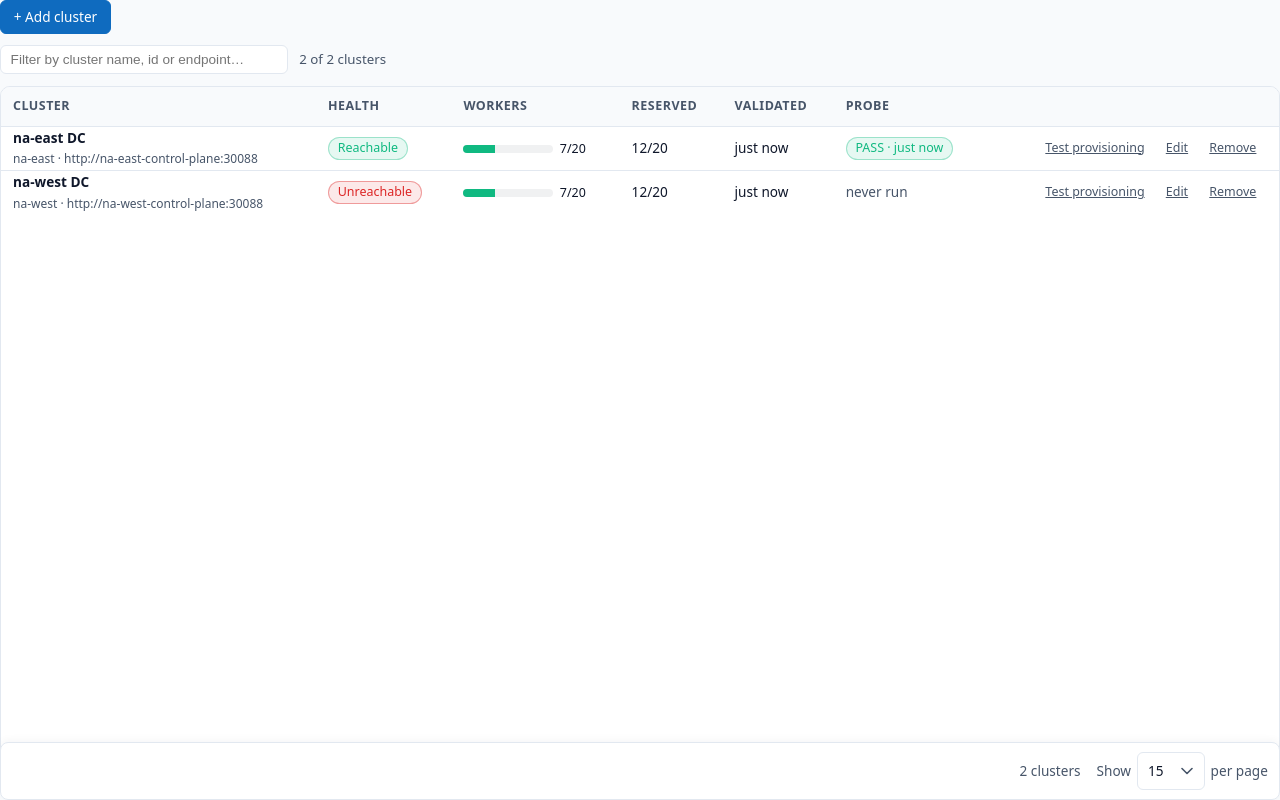
Scenario: ClustersPage (CLUSTER-CAPACITY) › a failed validation renders the ✓/✗ checklist with the failing check's detail
This screenshot has width=1280, height=800.
Click the button "+ Add cluster": click(56, 17) x1=0 y1=0 x2=111 y2=34
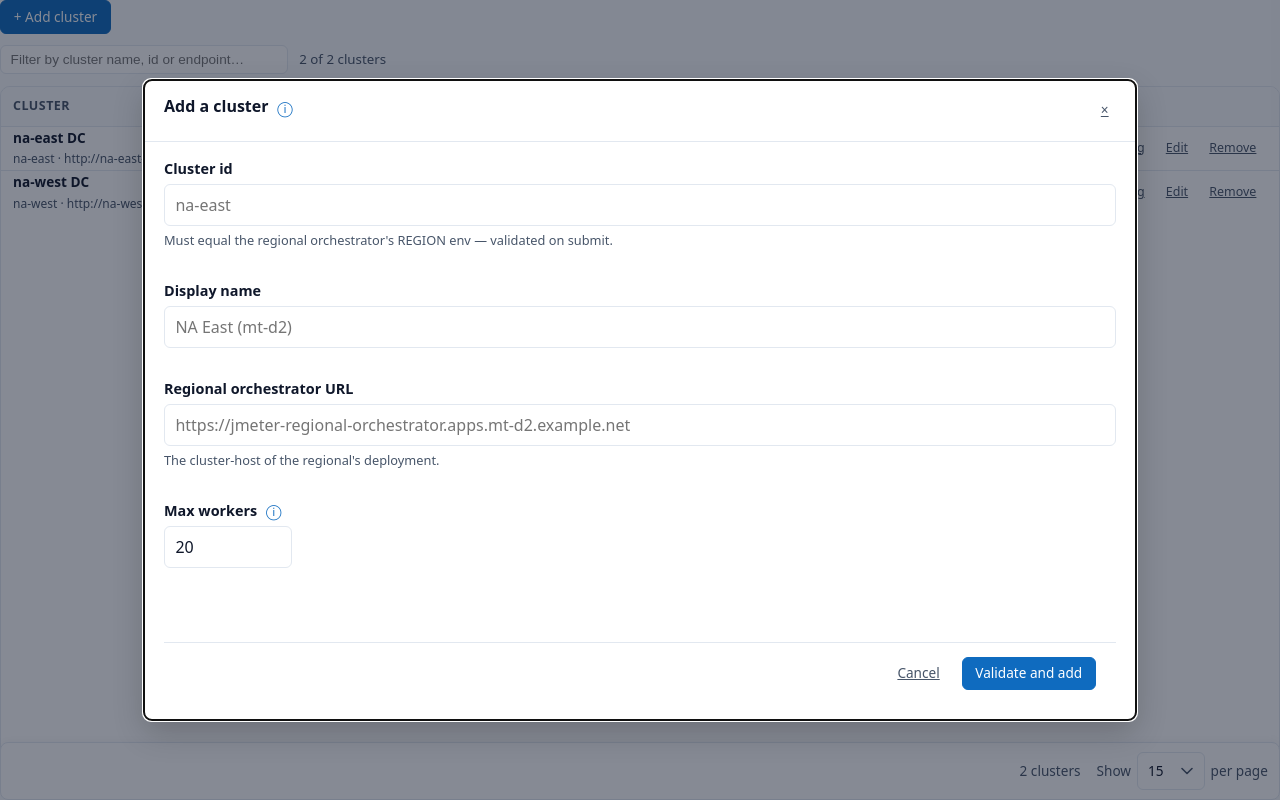
In the field labelled "Cluster id": (640, 205) x1=164 y1=184 x2=1116 y2=226, type "na-south"
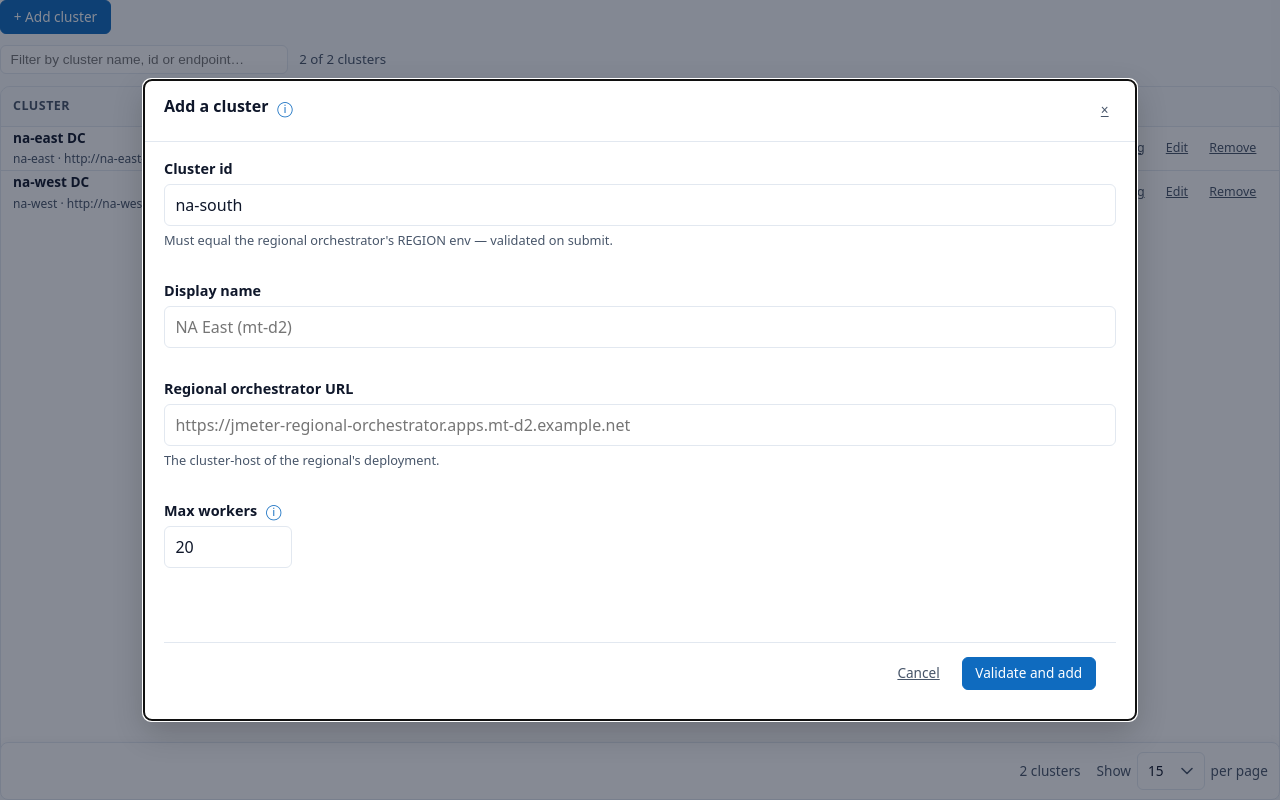
In the field labelled "Display name": (640, 327) x1=164 y1=306 x2=1116 y2=348, type "NA South"
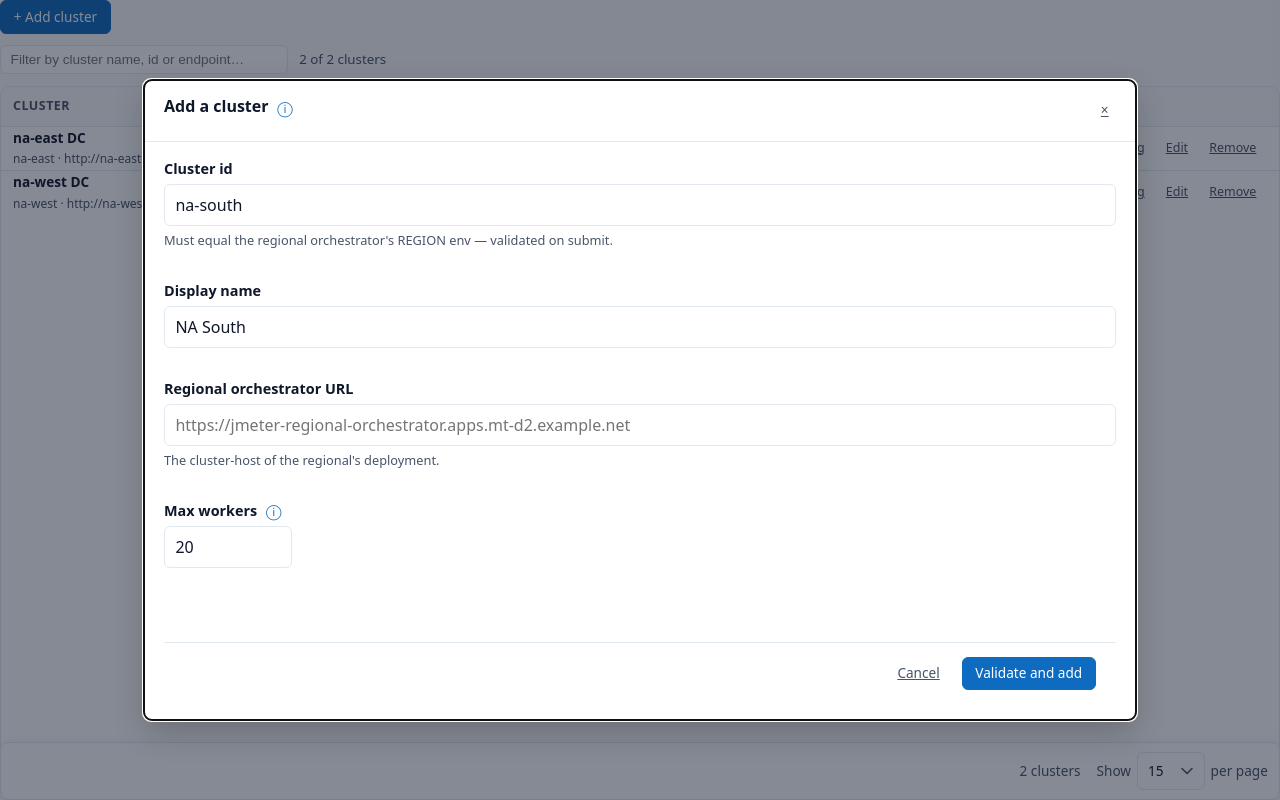
In the field labelled "Regional orchestrator URL": (640, 425) x1=164 y1=404 x2=1116 y2=446, type "http://na-west:30088"
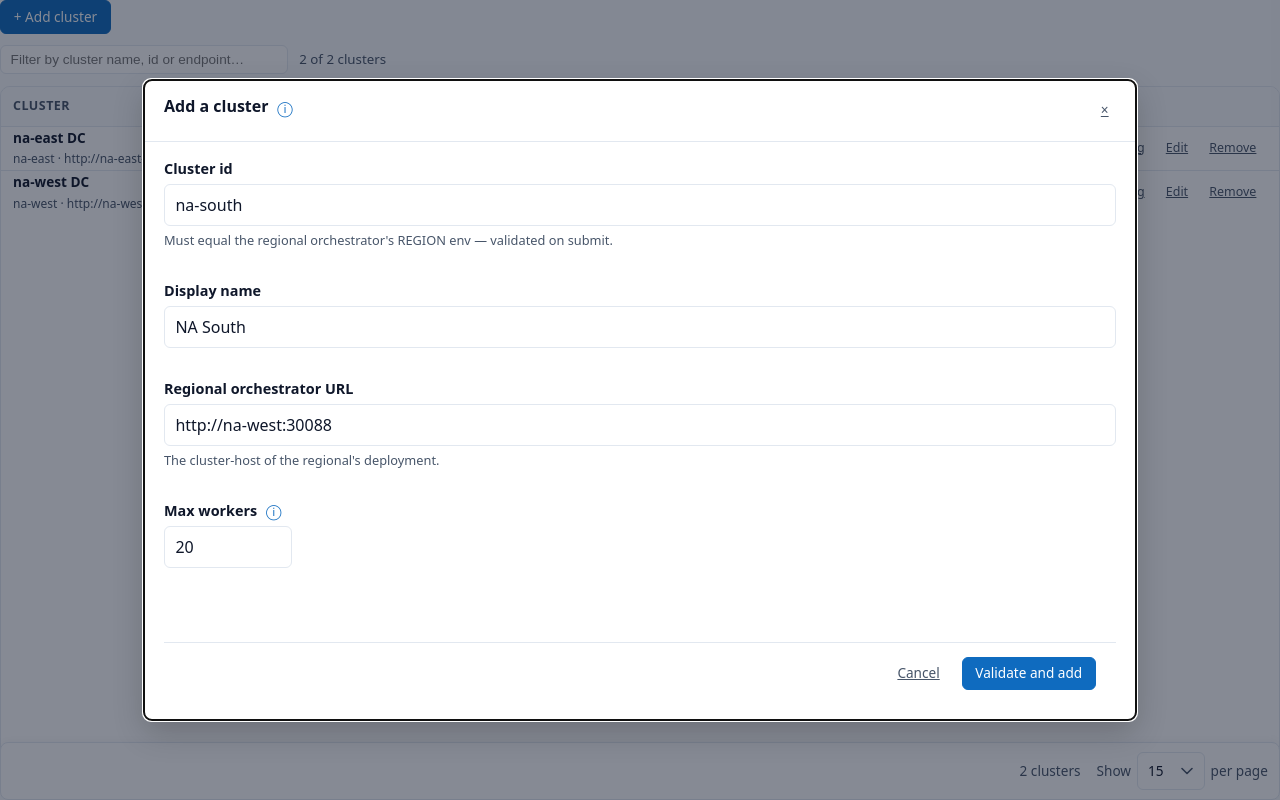
Click the button "Validate and add": click(1029, 674) x1=962 y1=657 x2=1096 y2=690
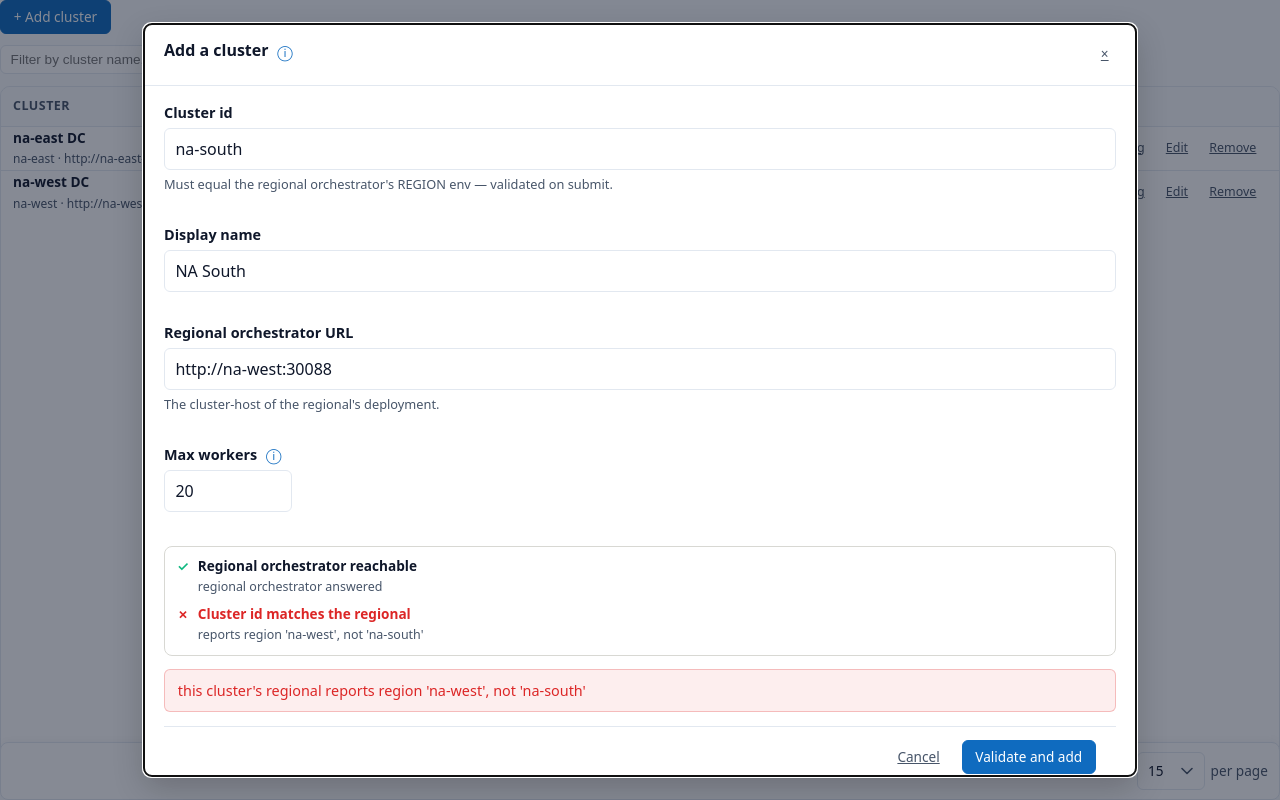
Check: the text "Regional orchestrator reachable" is shown, box x1=198 y1=556 x2=417 y2=577
Check: the text "Cluster id matches the regional" is shown, box x1=198 y1=604 x2=424 y2=625
Check: the text "reports region 'na-west', not 'na-south'" is shown, box x1=198 y1=626 x2=424 y2=645
